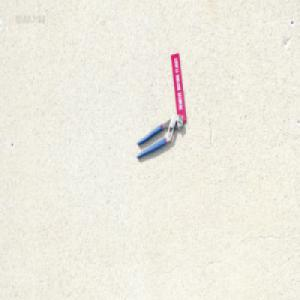Label: (170, 50, 187, 121)
Pliers: (136, 113, 183, 159)
